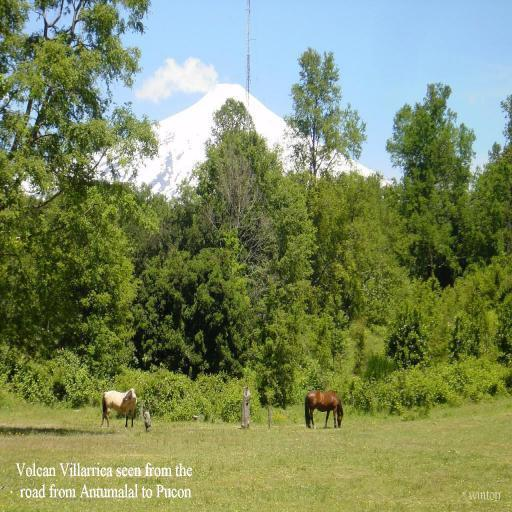horse: (302, 388, 345, 430), (100, 386, 138, 428)
